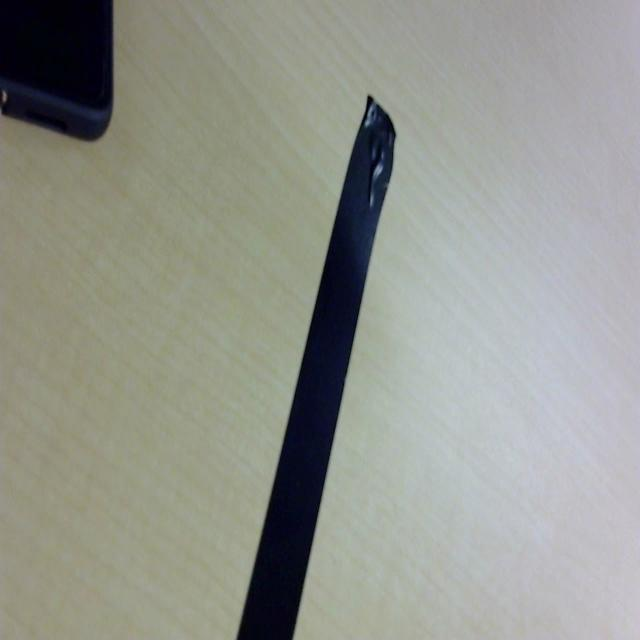tape: (217, 24, 411, 640)
